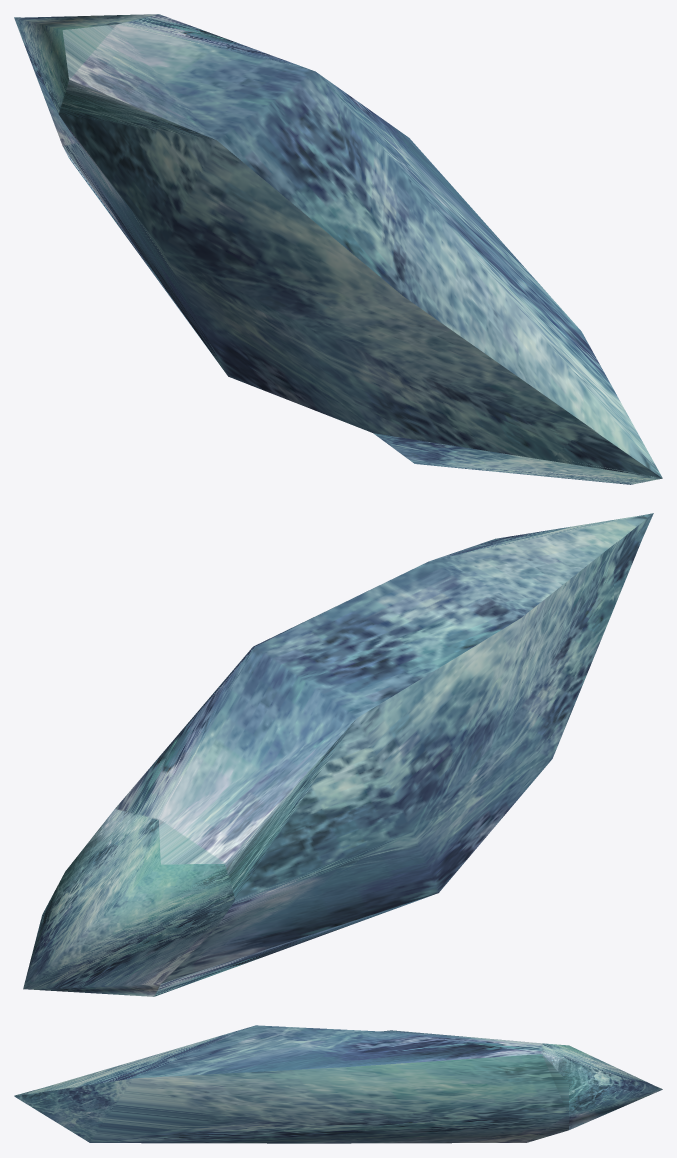
File: proj_ice.fbx
The picture shows the model from 3 angles, top to bottom: view 1: azimuth 30°, elevation 25°; view 2: azimuth 150°, elevation 25°; view 3: azimuth 270°, elevation 25°; orthographic projection. The views are drawn at different scales.
Parts seen in each view (by area): view 1: icespear (×2); view 2: icespear (×2); view 3: icespear.
Part boxes in pixels (<box>): icespear (×2): <box>14,14,662,484</box>; icespear (×2): <box>23,513,653,996</box>; icespear: <box>14,1025,662,1143</box>.
Bounding box in the file's own units: 0.0933 × 0.0993 × 0.4573.
1 material, 1 textured.
